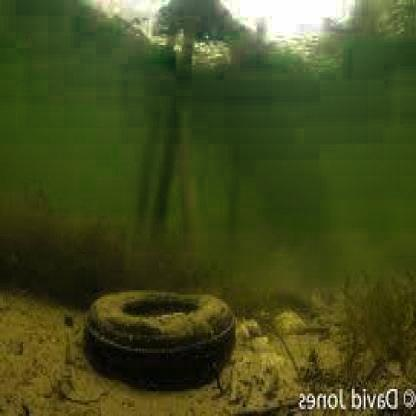tire: (88, 274, 238, 398)
